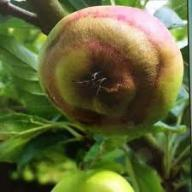apple: (42, 7, 178, 129)
